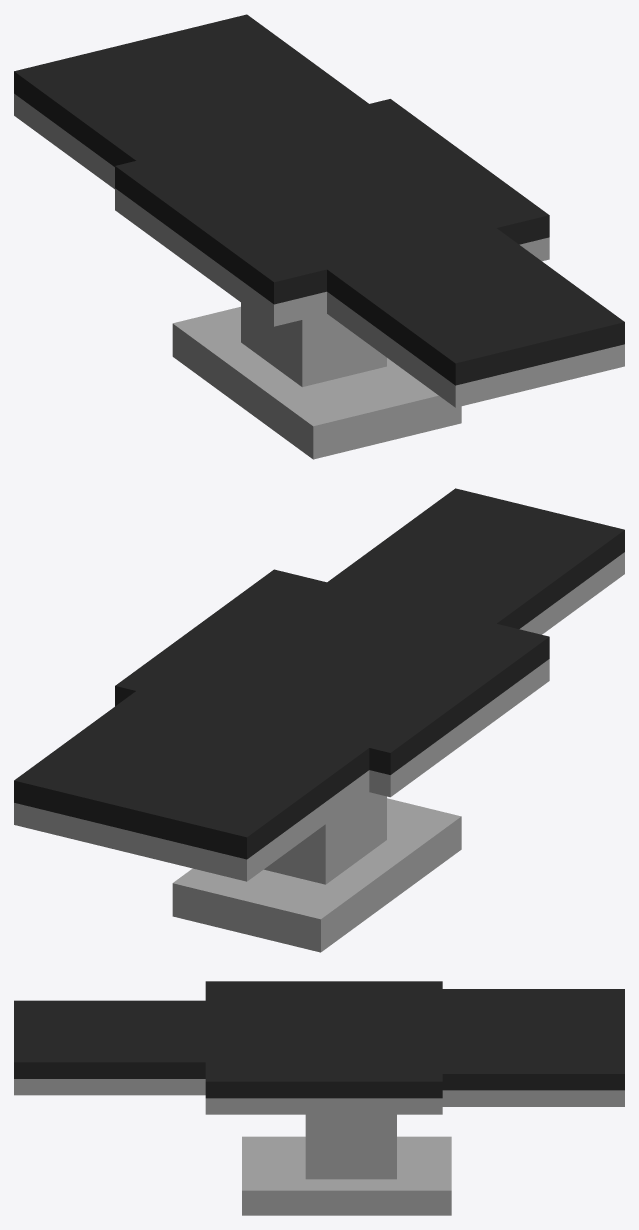
File: Operating_room_bed1-1.fbx
3 renders of one model, top to bottom at view 1: azimuth 30°, elevation 25°; view 2: azimuth 150°, elevation 25°; view 3: azimuth 270°, elevation 25°, orthographic. The views are drawn at different scales.
Parts seen in each view (by area): view 1: Operating room bed1-1.005, Operating room bed1-1.002, Operating room bed1-1.003, Operating room bed1-1.001, Operating room bed1-1.004, Operating room bed1-1; view 2: Operating room bed1-1.005, Operating room bed1-1.002, Operating room bed1-1.001, Operating room bed1-1.003, Operating room bed1-1.004, Operating room bed1-1; view 3: Operating room bed1-1.005, Operating room bed1-1.002, Operating room bed1-1, Operating room bed1-1.003, Operating room bed1-1.004, Operating room bed1-1.001.
Boxes of the visible parts, x1,y1,x2,y2 form: Operating room bed1-1.005: (172,114,479,459); Operating room bed1-1.002: (14,14,368,189); Operating room bed1-1.003: (376,264,624,407); Operating room bed1-1.001: (115,150,330,326); Operating room bed1-1.004: (321,223,544,349); Operating room bed1-1: (327,99,549,261); Operating room bed1-1.005: (172,589,479,952); Operating room bed1-1.002: (14,691,369,881); Operating room bed1-1.001: (327,623,549,797); Operating room bed1-1.003: (376,488,624,631); Operating room bed1-1.004: (321,546,545,634); Operating room bed1-1: (115,569,330,706); Operating room bed1-1.005: (214,1004,451,1215); Operating room bed1-1.002: (442,989,624,1106); Operating room bed1-1: (205,1058,442,1114); Operating room bed1-1.003: (14,1000,132,1095); Operating room bed1-1.004: (132,1000,214,1095); Operating room bed1-1.001: (205,981,442,1004).
Size of the model in its own units: 2.6 by 1.9 by 6.7.
